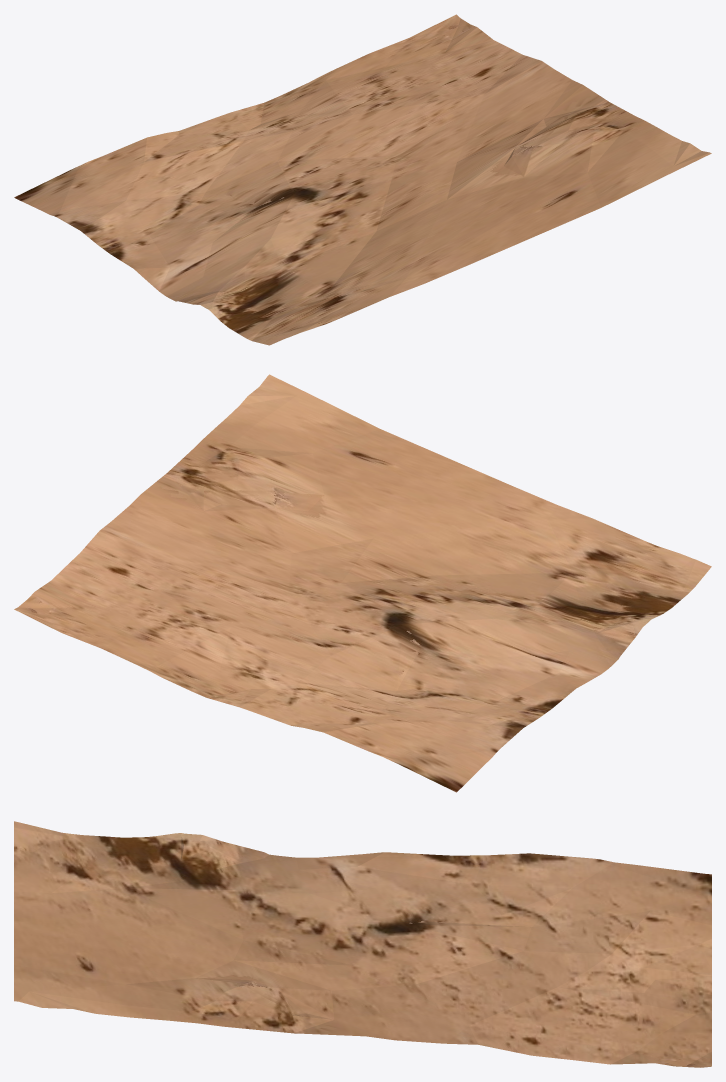
3 renders of one model, top to bottom at view 1: azimuth 30°, elevation 25°; view 2: azimuth 150°, elevation 25°; view 3: azimuth 270°, elevation 25°, orthographic. The views are drawn at different scales.
Bounding box in the file's own units: 1.04 × 0.2776 × 1.04.
Materials: 3 (3 with a texture image).
